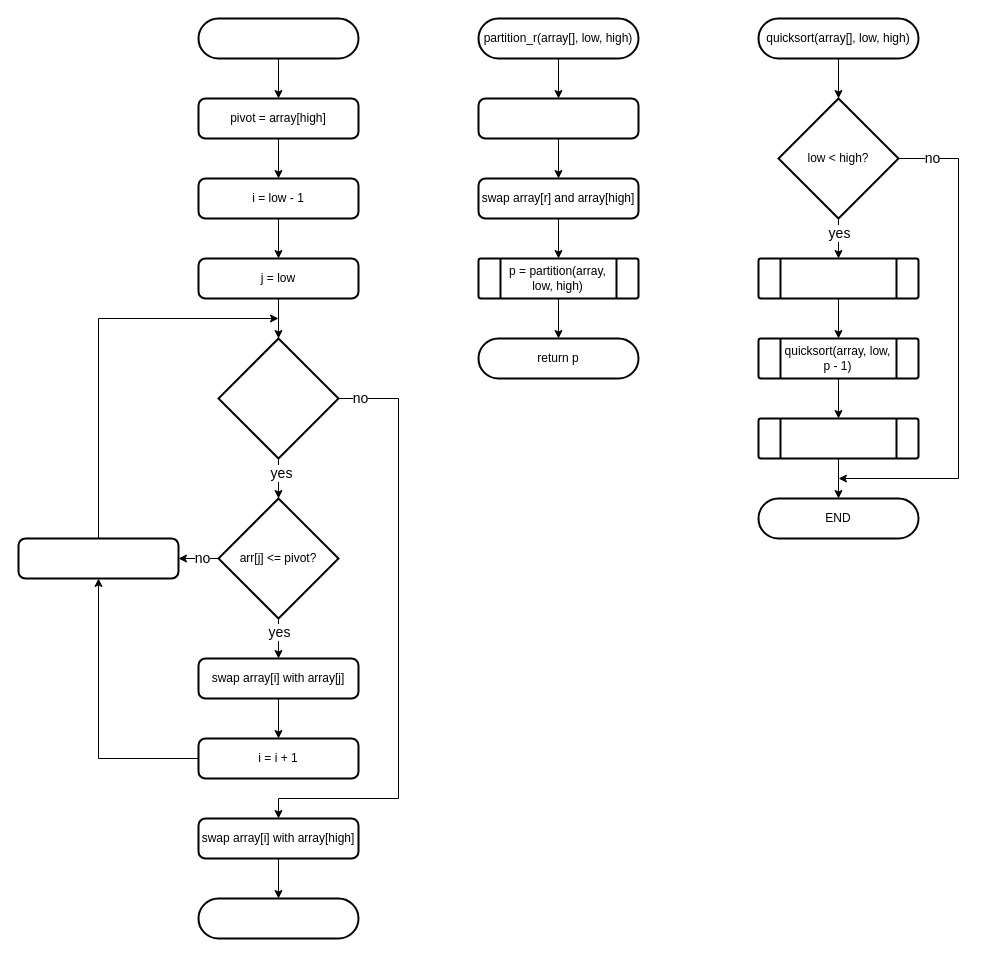
Some shapes in this 984 by 956 pixel diagram are drawn without their labels. Here are the shapes that lost their labels. From the top down, the centre of each, then its label:
At [278,38]: "partition(array[], low, high)".
At [558,118]: "r = random number between low and high".
At [838,278]: "p = partition_r(array, low, high)".
At [278,398]: "j <= (high - 1)?".
At [838,438]: "quicksort(array, p + 1, high)".
At [98,558]: "j = j + 1".
At [278,918]: "return i".
